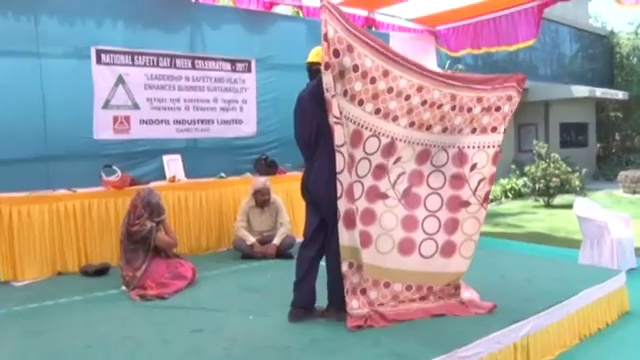helmet: (304, 44, 324, 66)
helmet_off: (131, 186, 164, 220), (251, 179, 272, 209)
helmet_on: (303, 43, 326, 82)
person: (282, 43, 351, 324), (114, 184, 195, 305), (233, 178, 292, 269)
